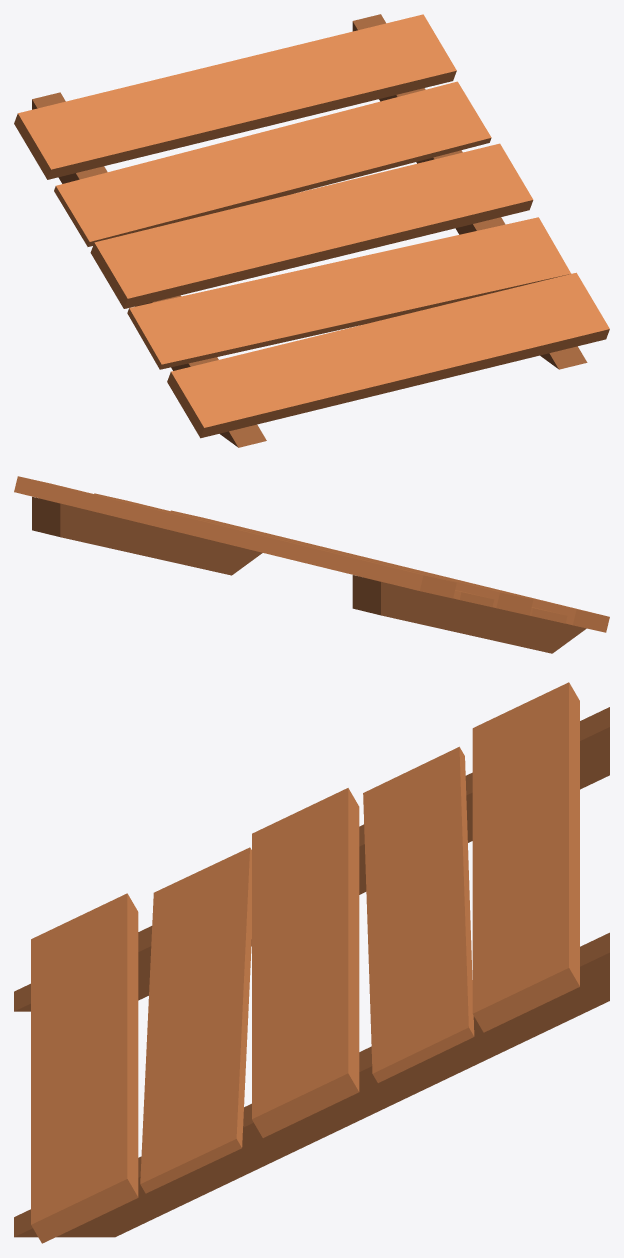
The model's file is bridgeRamp.dae.
The picture shows the model from 3 angles, top to bottom: view 1: azimuth 30°, elevation 25°; view 2: azimuth 150°, elevation 25°; view 3: azimuth 270°, elevation 25°; orthographic projection. The views are drawn at different scales.
Parts seen in each view (by area): view 1: bridgeRamp; view 2: bridgeRamp; view 3: bridgeRamp.
Part boxes in pixels (box(x1,y1,x2,y2)): bridgeRamp: box(14, 14, 609, 447); bridgeRamp: box(14, 476, 609, 653); bridgeRamp: box(14, 682, 609, 1243).
Bounding box in the file's own units: 1 × 0.4726 × 0.882.
